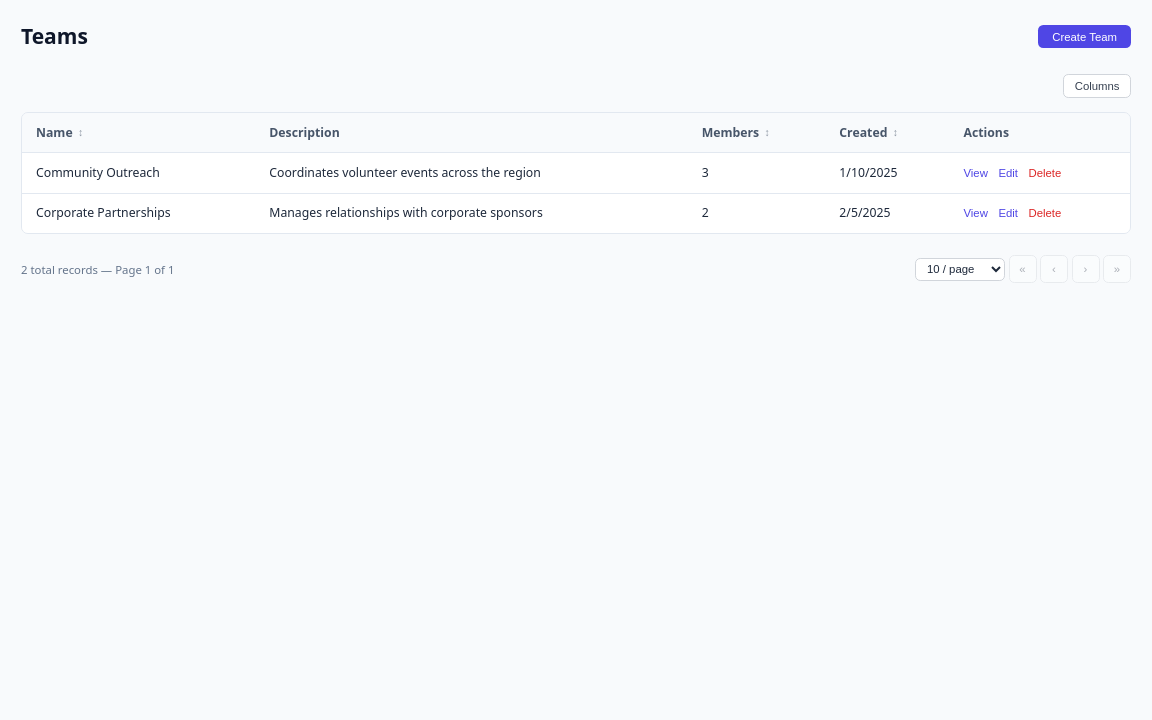
Test case: TeamListContent › shows a duplicate-name field error from the server
This screenshot has width=1152, height=720.
Expected: the text "Community Outreach" is shown, [22, 153, 255, 193]
Click the button "Create Team" at x=1085, y=37, box [1038, 25, 1131, 48]
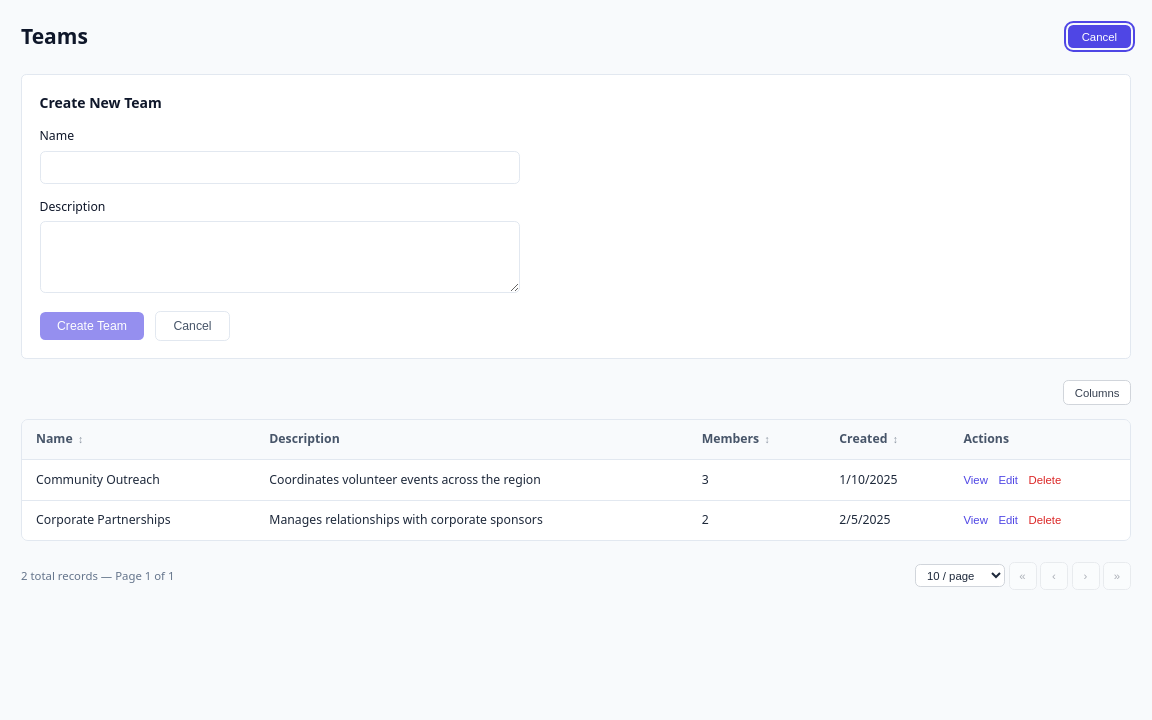
Type "Duplicate Team" into the field labelled "Name" at x=280, y=167, box [40, 151, 520, 184]
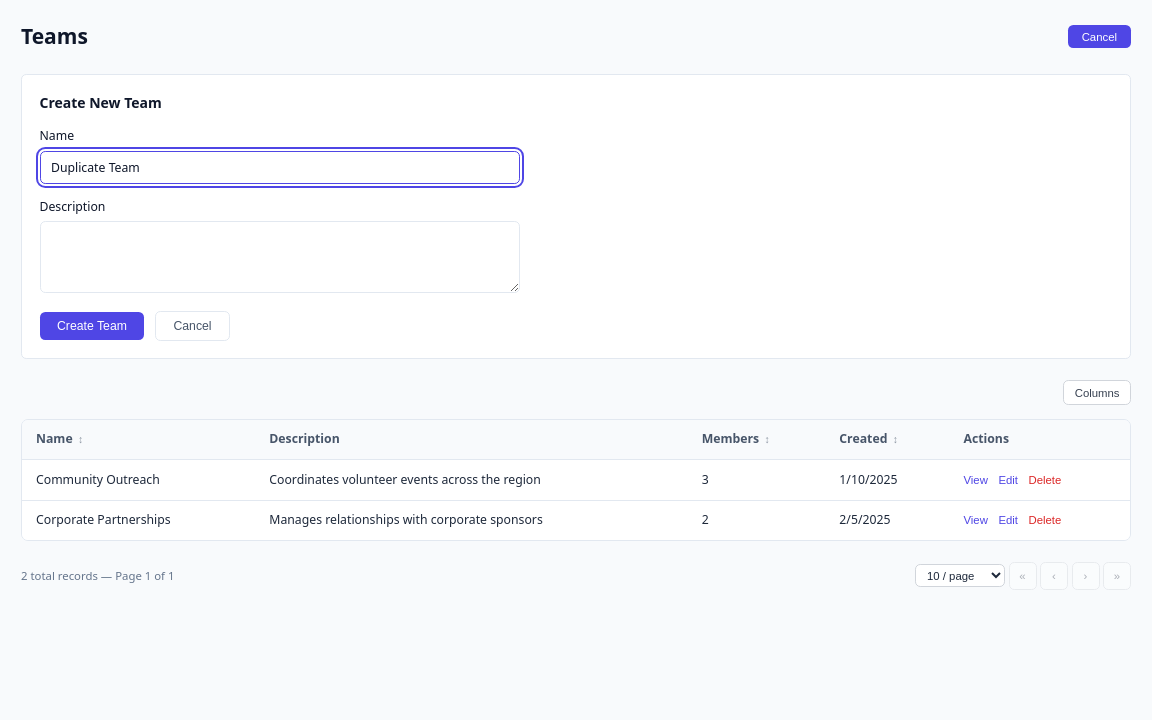
Expected: the button "Create Team" is enabled
Click the button "Create Team" at x=92, y=326, box [40, 312, 144, 340]
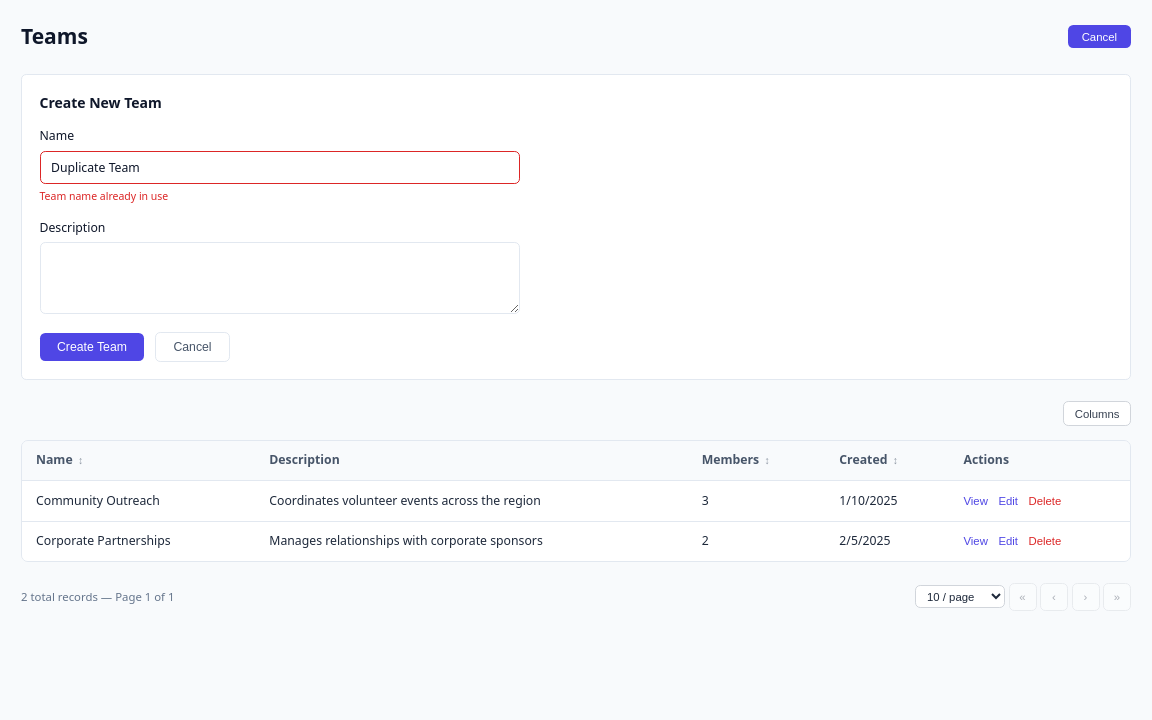
Expected: the text "Team name already in use" is shown, [40, 189, 168, 203]
